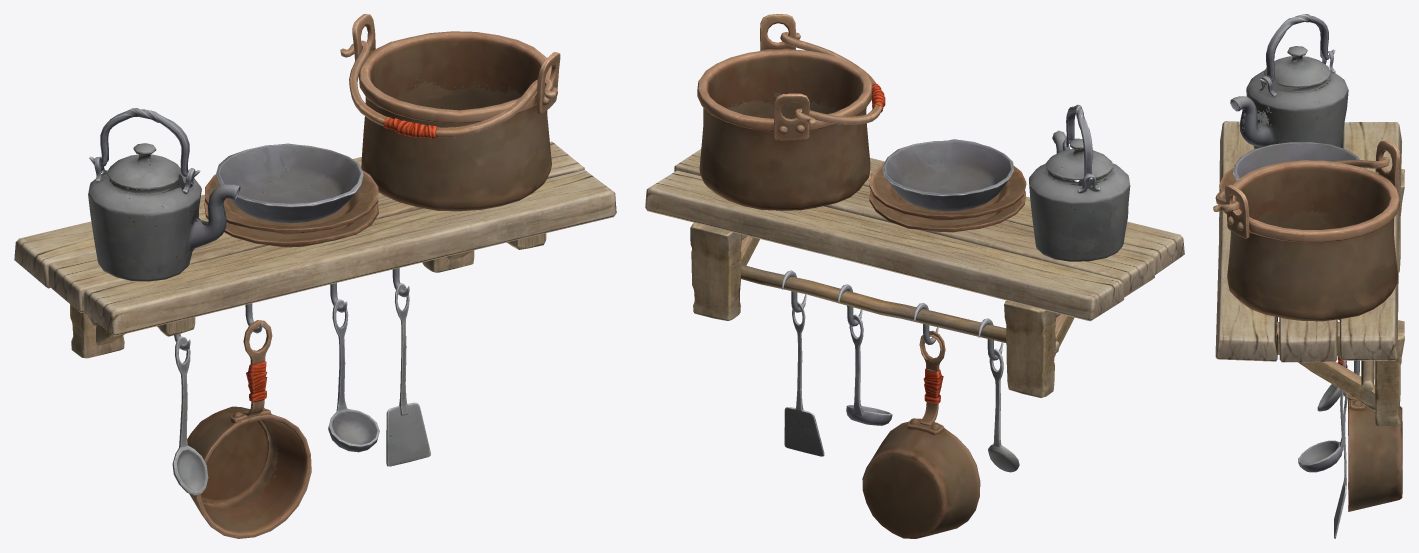
3 renders of one model, left to right at view 1: azimuth 30°, elevation 25°; view 2: azimuth 150°, elevation 25°; view 3: azimuth 270°, elevation 25°, orthographic. The views are drawn at different scales.
Visible parts, largest first — view 1: SM_Dec_Kitchen_Shelves_01_LOD0; view 2: SM_Dec_Kitchen_Shelves_01_LOD0; view 3: SM_Dec_Kitchen_Shelves_01_LOD0.
Part boxes in pixels (left/top/right/bottom): SM_Dec_Kitchen_Shelves_01_LOD0: left=14, top=14, right=616, bottom=538; SM_Dec_Kitchen_Shelves_01_LOD0: left=645, top=14, right=1184, bottom=538; SM_Dec_Kitchen_Shelves_01_LOD0: left=1213, top=14, right=1404, bottom=538.
Bounding box in the file's own units: 1.67 × 1.52 × 0.6126.
Materials: 3 (3 with a texture image).
